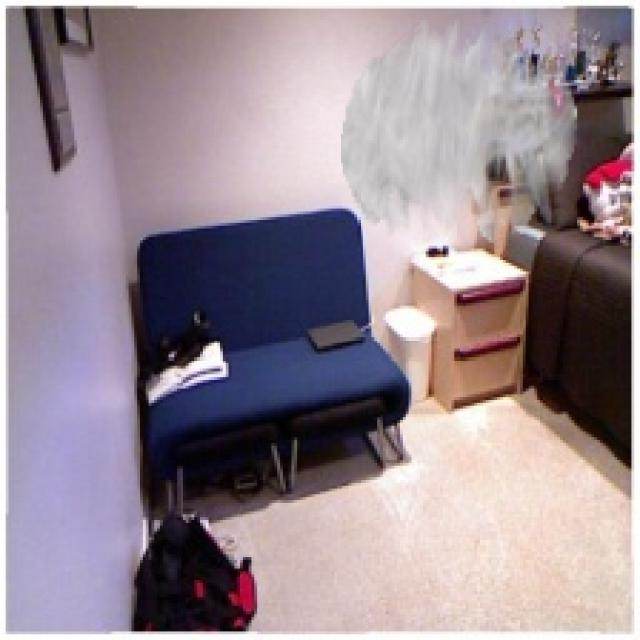smoke: (340, 14, 577, 243)
